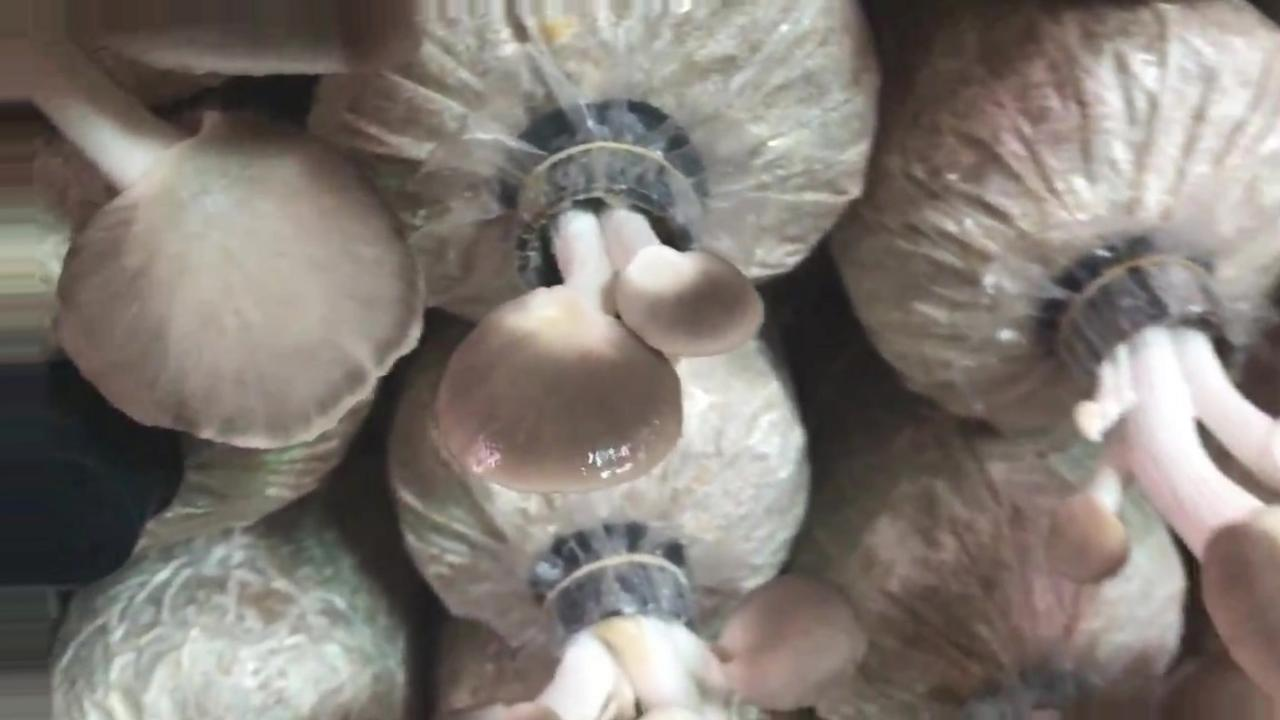nam: (1, 2, 435, 453), (438, 148, 770, 498), (1043, 253, 1277, 720), (452, 549, 873, 720)
